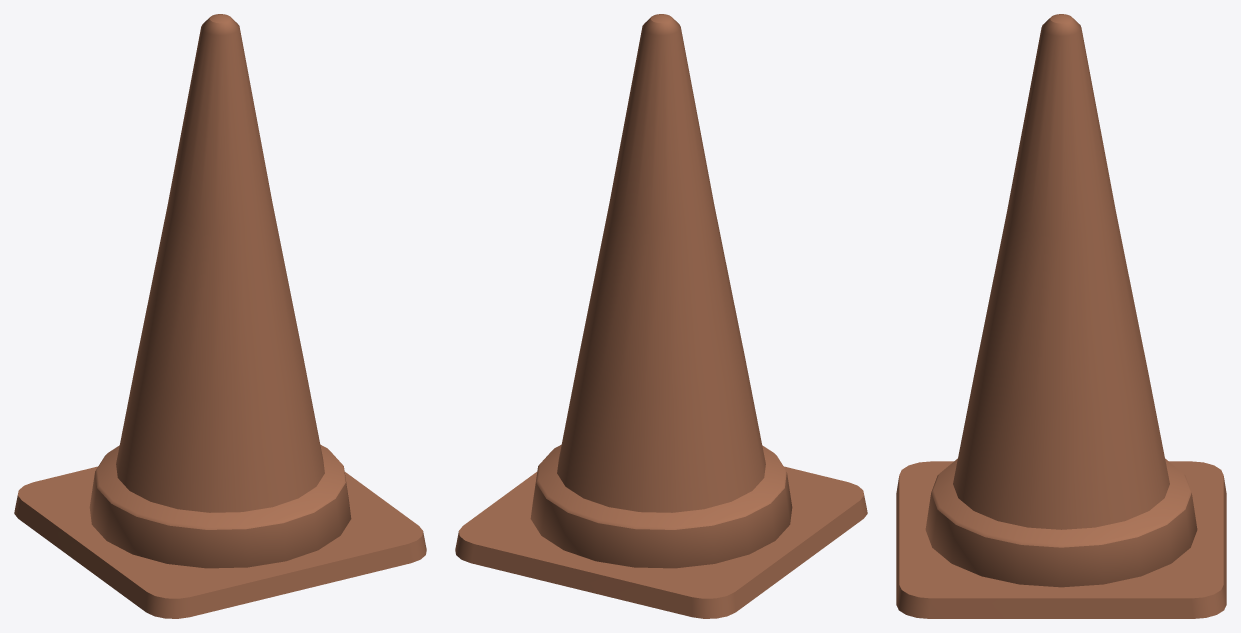
Rendered from StreetFurniture_Cone_03.fbx.
3 views of the same model, side by side, from view 1: azimuth 30°, elevation 25°; view 2: azimuth 150°, elevation 25°; view 3: azimuth 270°, elevation 25° (orthographic). The views are drawn at different scales.
Visible parts, largest first — view 1: Prop_TrafficCone_01_Mesh_LOD0; view 2: Prop_TrafficCone_01_Mesh_LOD0; view 3: Prop_TrafficCone_01_Mesh_LOD0.
Boxes of the visible parts, <box> form: Prop_TrafficCone_01_Mesh_LOD0: <box>14,14,426,618</box>; Prop_TrafficCone_01_Mesh_LOD0: <box>455,14,867,618</box>; Prop_TrafficCone_01_Mesh_LOD0: <box>896,14,1226,618</box>.
Size of what is drawn, in the model's own units: 39.32 by 70.15 by 39.32.
